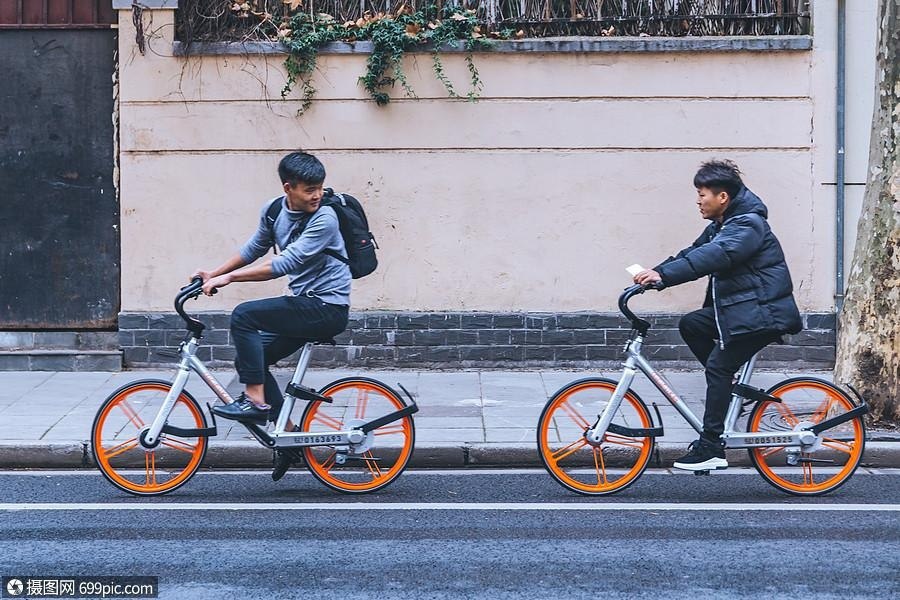non-vehicle: (67, 265, 420, 496), (519, 297, 863, 491)
